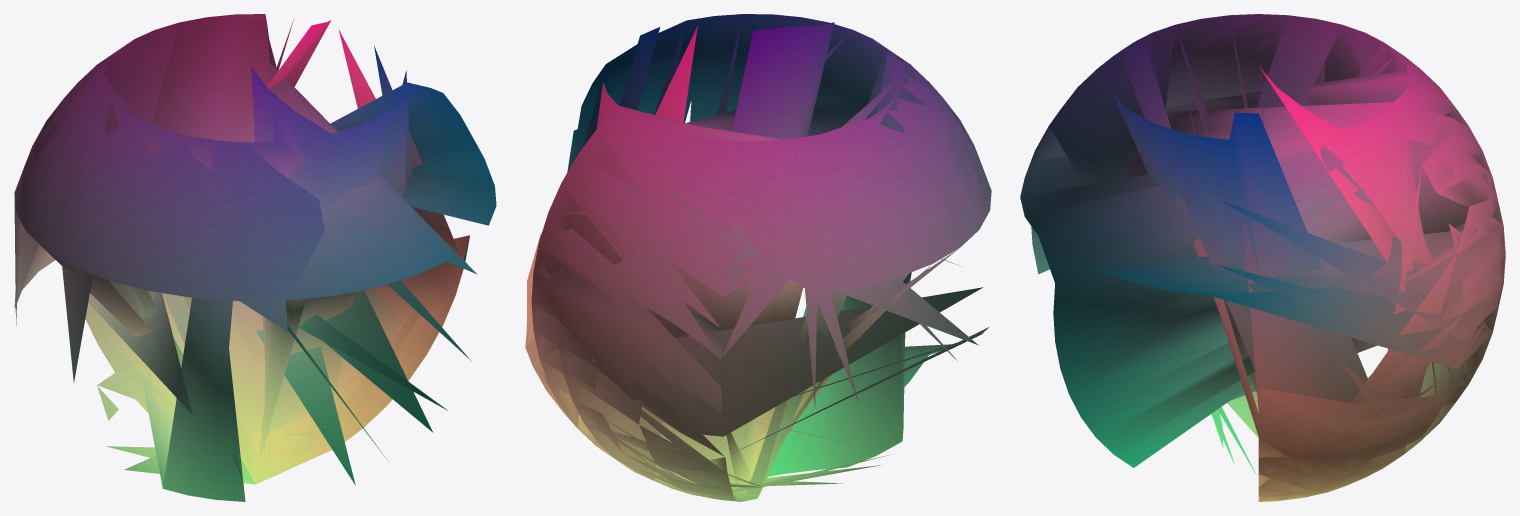
File: packed.glb
3 views of the same model, side by side, from view 1: azimuth 30°, elevation 25°; view 2: azimuth 150°, elevation 25°; view 3: azimuth 270°, elevation 25° (orthographic).
Parts seen in each view (by area): view 1: gosx-dequantize; view 2: gosx-dequantize; view 3: gosx-dequantize.
Part boxes in pixels (x1,y1,x2,y2): gosx-dequantize: [14, 14, 496, 501]; gosx-dequantize: [525, 14, 991, 501]; gosx-dequantize: [1020, 14, 1505, 501].
Bounding box in the file's own units: 7.83 × 8 × 7.86.
Materials: 1 (1 with a texture image).
